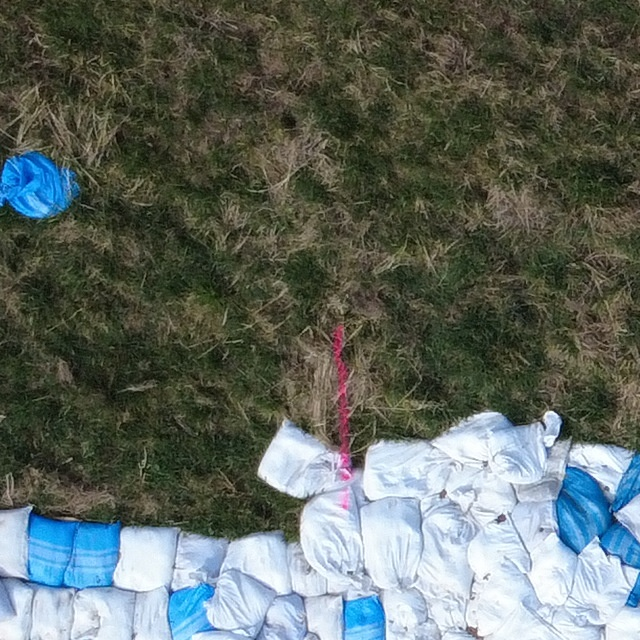sandbag: (257, 420, 340, 499), (567, 540, 640, 623), (300, 486, 363, 580), (360, 498, 422, 590), (489, 411, 562, 485), (418, 503, 475, 597), (0, 153, 79, 220), (555, 467, 613, 553), (207, 570, 275, 637), (114, 527, 180, 592), (222, 534, 290, 595), (433, 412, 511, 464), (65, 522, 121, 589), (569, 444, 633, 501), (528, 533, 577, 605), (27, 515, 75, 587), (515, 441, 570, 503), (72, 589, 136, 640), (172, 533, 228, 590), (168, 584, 214, 640), (29, 586, 75, 640), (0, 506, 33, 579), (512, 501, 556, 553), (490, 609, 560, 640), (259, 595, 307, 640), (288, 544, 327, 597), (0, 580, 33, 640), (600, 523, 640, 571), (134, 590, 171, 640), (343, 596, 385, 640), (382, 590, 428, 629), (305, 596, 344, 640), (613, 454, 640, 512), (325, 574, 379, 600), (385, 620, 442, 640), (616, 495, 640, 542), (605, 609, 640, 640), (193, 632, 249, 640), (627, 577, 640, 608), (305, 632, 320, 640)
